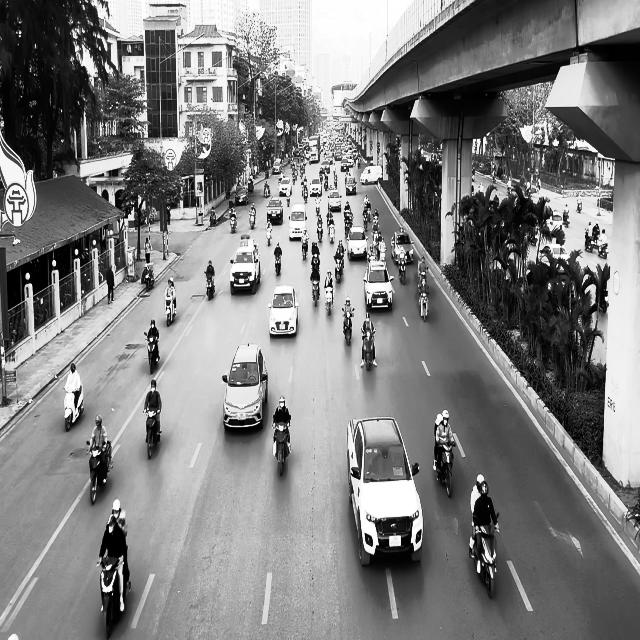bus: (308, 134, 320, 162)
car: (347, 416, 423, 567), (222, 343, 268, 430), (267, 285, 299, 337), (363, 259, 394, 310), (230, 244, 260, 295), (391, 230, 414, 264), (287, 203, 307, 240), (347, 226, 367, 260), (266, 197, 283, 224), (328, 190, 341, 212), (234, 186, 248, 205), (310, 177, 322, 196), (279, 177, 291, 196), (345, 176, 357, 194)
motorbike: (96, 552, 130, 638), (469, 513, 500, 599), (86, 438, 113, 504), (433, 442, 455, 497), (272, 420, 291, 476), (63, 384, 84, 432), (143, 408, 161, 459), (144, 330, 160, 374), (361, 327, 376, 371), (342, 307, 354, 345), (418, 283, 429, 321), (164, 294, 177, 326), (142, 263, 154, 291), (204, 270, 215, 300), (333, 253, 344, 282), (324, 285, 334, 315), (311, 276, 320, 307), (397, 256, 406, 284), (597, 236, 608, 258), (584, 229, 594, 252), (274, 250, 282, 276), (327, 219, 335, 243), (301, 238, 308, 260), (230, 214, 237, 233), (266, 224, 272, 246), (249, 212, 256, 230)
